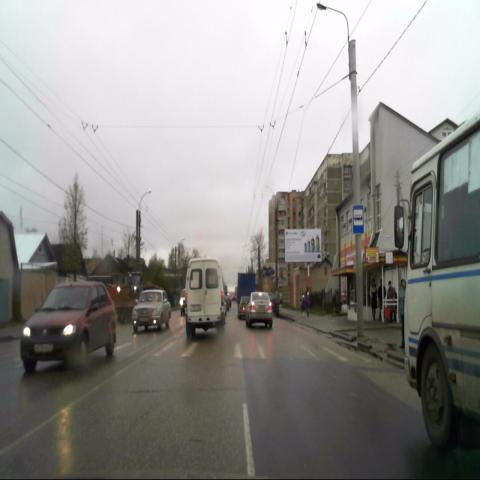5_16: (353, 205, 364, 234)
